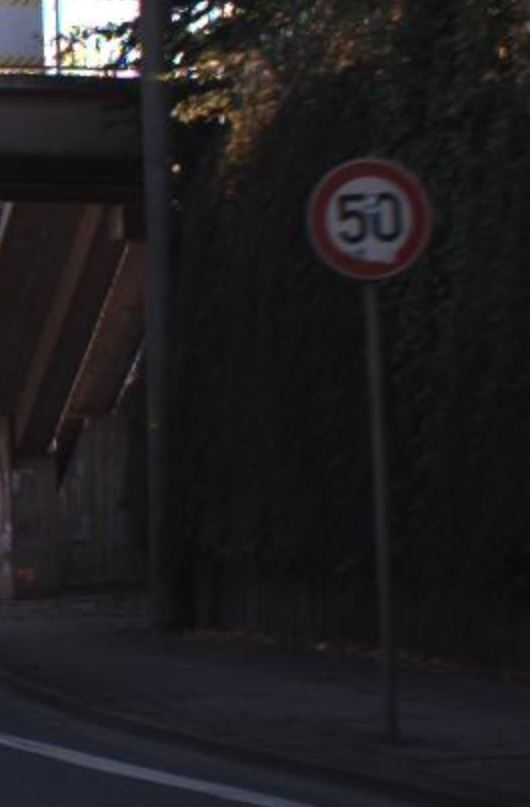50 Km Hiz Siniri: (307, 156, 429, 282)
